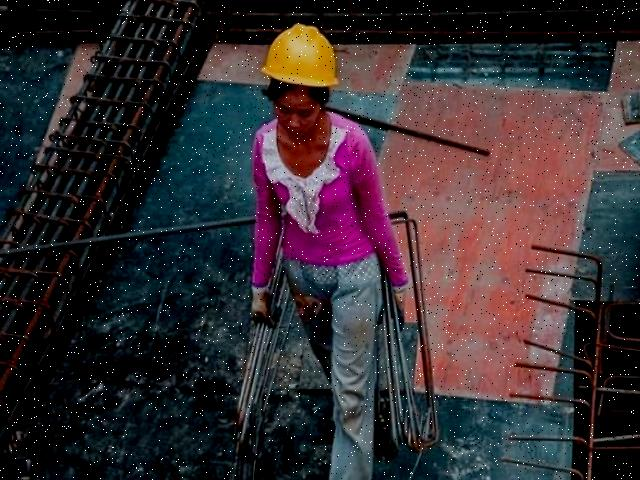Helmet: (259, 18, 342, 94)
